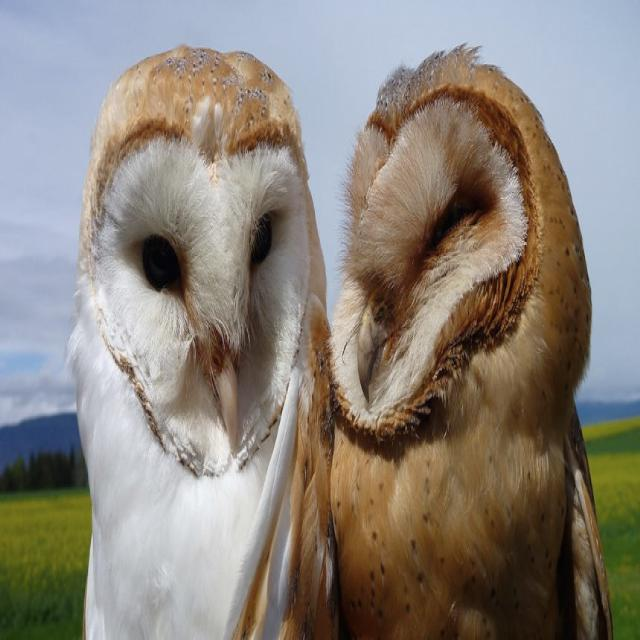owl: (331, 46, 610, 639), (68, 46, 338, 639)
